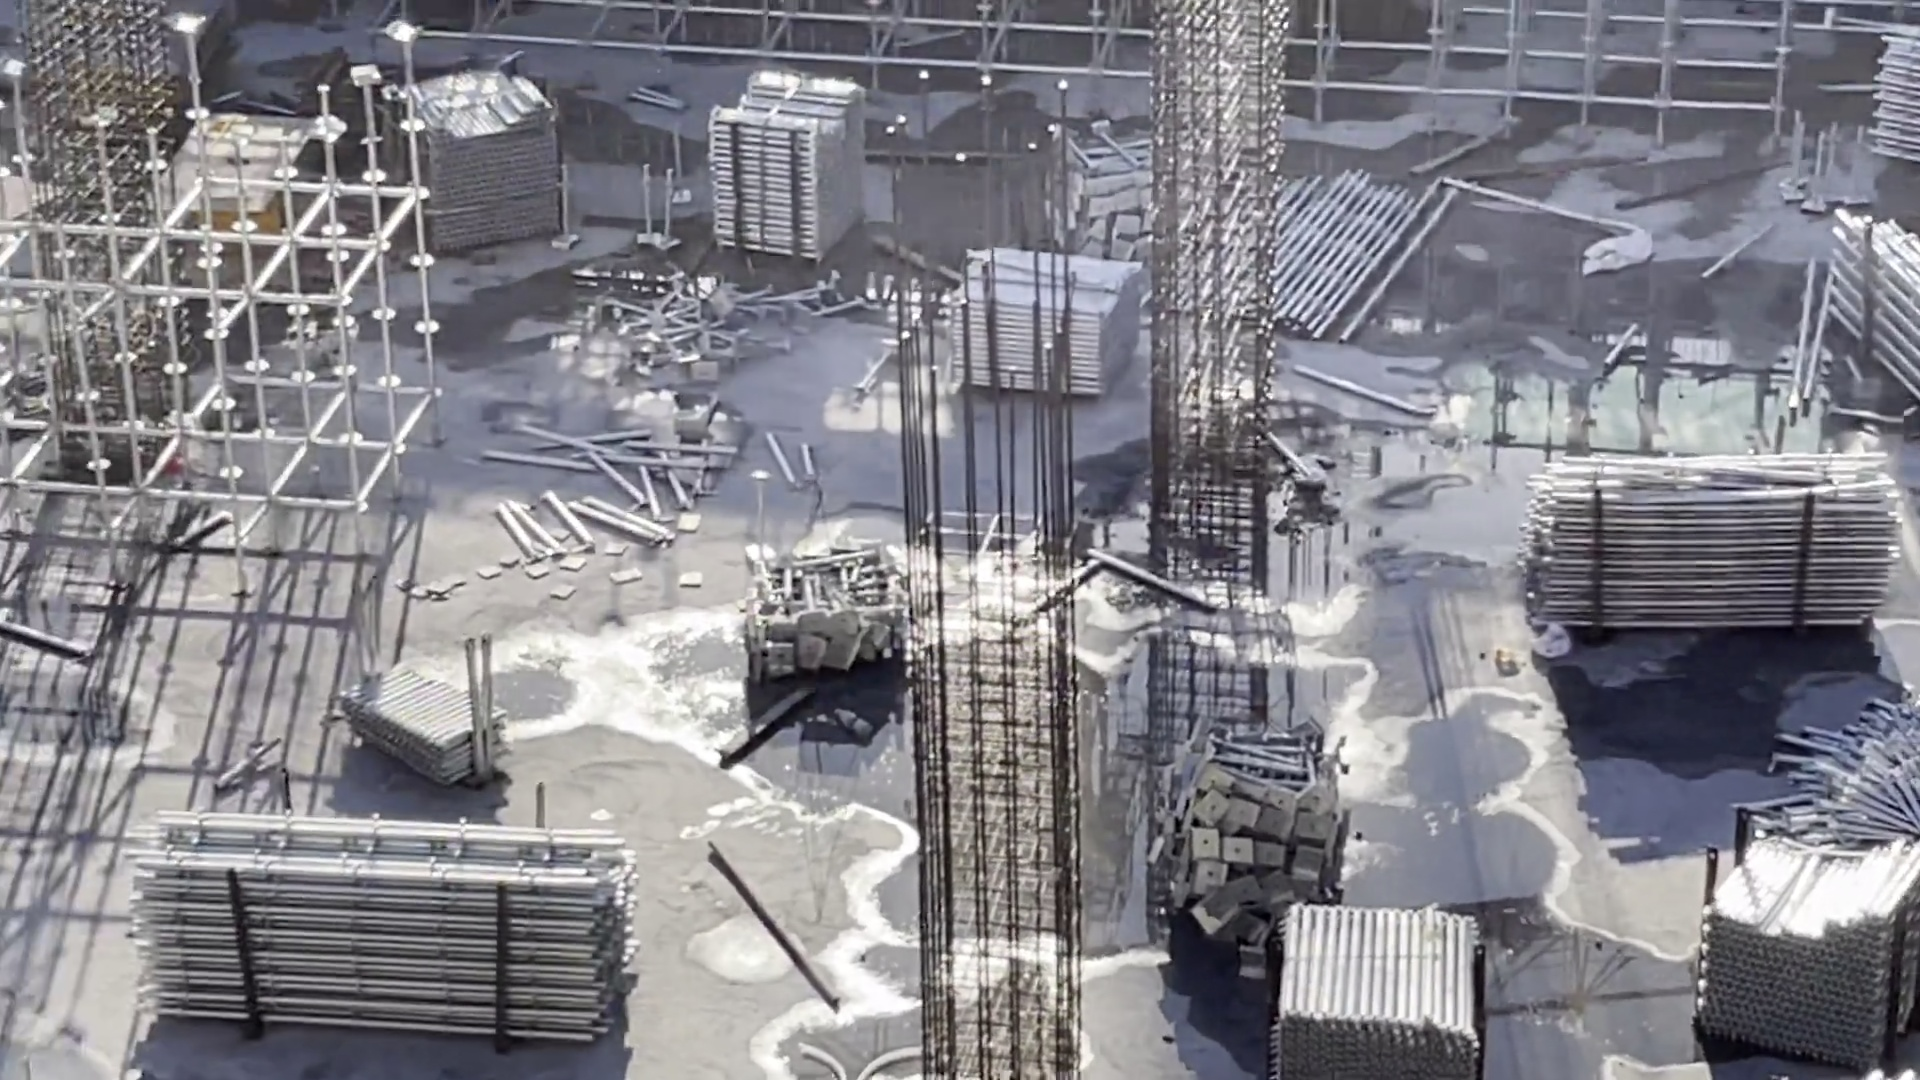cutter: (164, 90, 344, 243)
scaffold: (121, 804, 634, 1054), (1509, 442, 1882, 636), (1685, 824, 1915, 1068), (1158, 731, 1367, 949), (364, 61, 592, 252), (1259, 897, 1493, 1080), (684, 51, 866, 276), (1245, 152, 1462, 338), (934, 245, 1159, 413), (338, 649, 526, 793), (754, 556, 923, 687), (1035, 121, 1180, 268), (599, 276, 767, 390), (1818, 202, 1920, 392), (1775, 705, 1920, 823), (1861, 13, 1920, 175)
